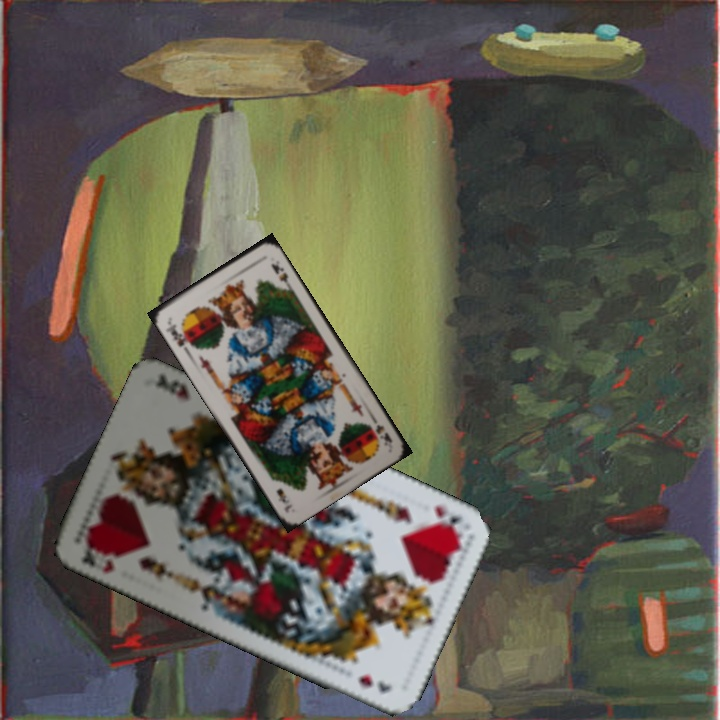HK: (76, 539, 122, 577), (429, 499, 466, 538)
SK: (162, 316, 195, 350), (372, 420, 395, 449)
